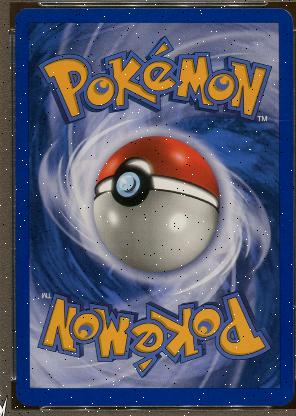Card: (12, 6, 294, 408)
Scratch: (274, 118, 288, 120)
